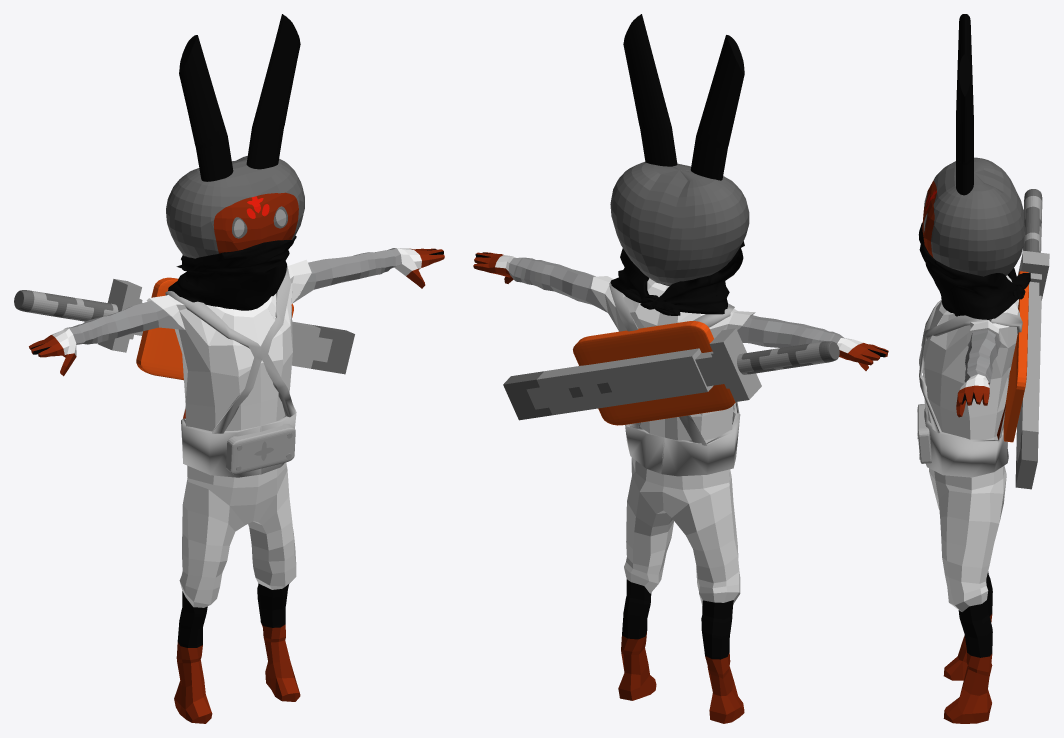
Rendered from ninja10.fbx.
3 views of the same model, side by side, from view 1: azimuth 30°, elevation 25°; view 2: azimuth 150°, elevation 25°; view 3: azimuth 270°, elevation 25° (orthographic). The views are drawn at different scales.
Parts seen in each view (by area): view 1: Cube.002, Cube.003; view 2: Cube.002, Cube.003; view 3: Cube.002, Cube.003.
Part boxes in pixels (x1=…): Cube.002: x1=29, y1=14, x2=444, y2=723; Cube.003: x1=14, y1=279, x2=354, y2=374; Cube.002: x1=473, y1=14, x2=888, y2=723; Cube.003: x1=503, y1=328, x2=839, y2=420; Cube.002: x1=917, y1=14, x2=1030, y2=723; Cube.003: x1=1015, y1=189, x2=1049, y2=489.
Size of the model in its own units: 253 by 401 by 72.33.
